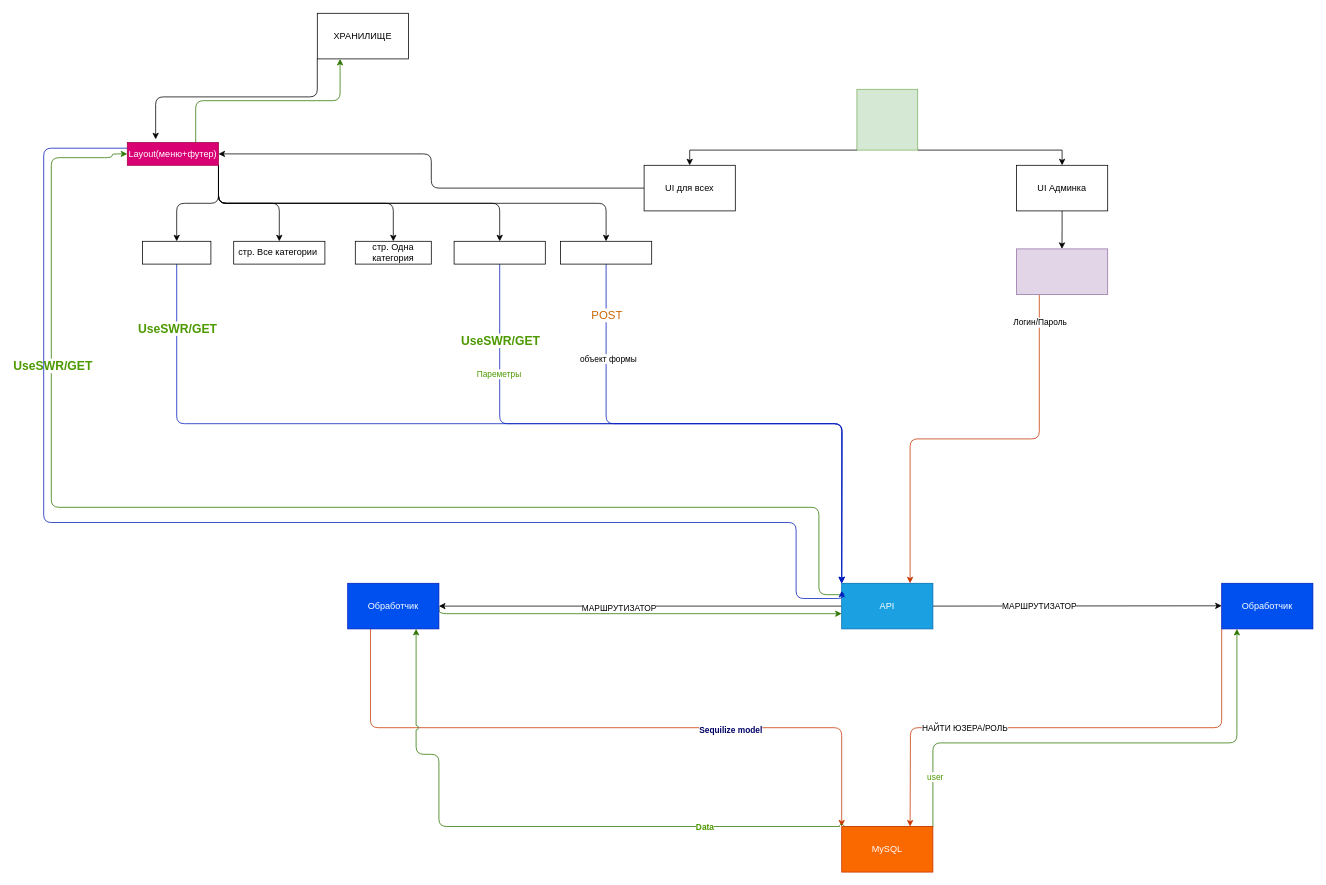
Some shapes in this 1326 by 885 pixel diagram are drawn without their labels. Here are the shapes that lost their labels. From the top down, the centre of each, then its label:
At point (887, 119): "Клиент".
At point (176, 252): "стр.Главная".
At point (499, 252): "стр. Карточка тов.".
At point (606, 252): "стр. Корзина".
At point (1062, 271): "стр. Авторизации".
